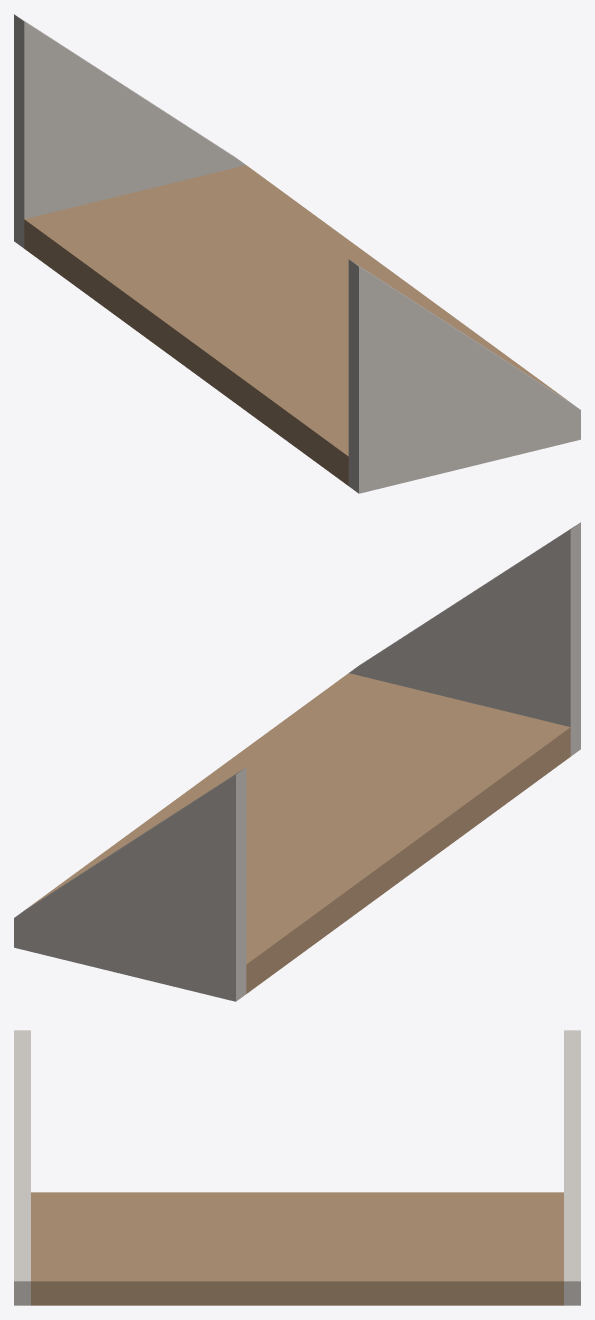
File: shelf2.fbx
3 renders of one model, top to bottom at view 1: azimuth 30°, elevation 25°; view 2: azimuth 150°, elevation 25°; view 3: azimuth 270°, elevation 25°, orthographic. The views are drawn at different scales.
Parts seen in each view (by area): view 1: shelf2; view 2: shelf2; view 3: shelf2.
Part boxes in pixels (left/top/right/bottom): shelf2: left=14, top=14, right=580, bottom=493; shelf2: left=14, top=522, right=580, bottom=1001; shelf2: left=14, top=1030, right=580, bottom=1305.
Bounding box in the file's own units: 96.37 × 35.79 × 34.99.
